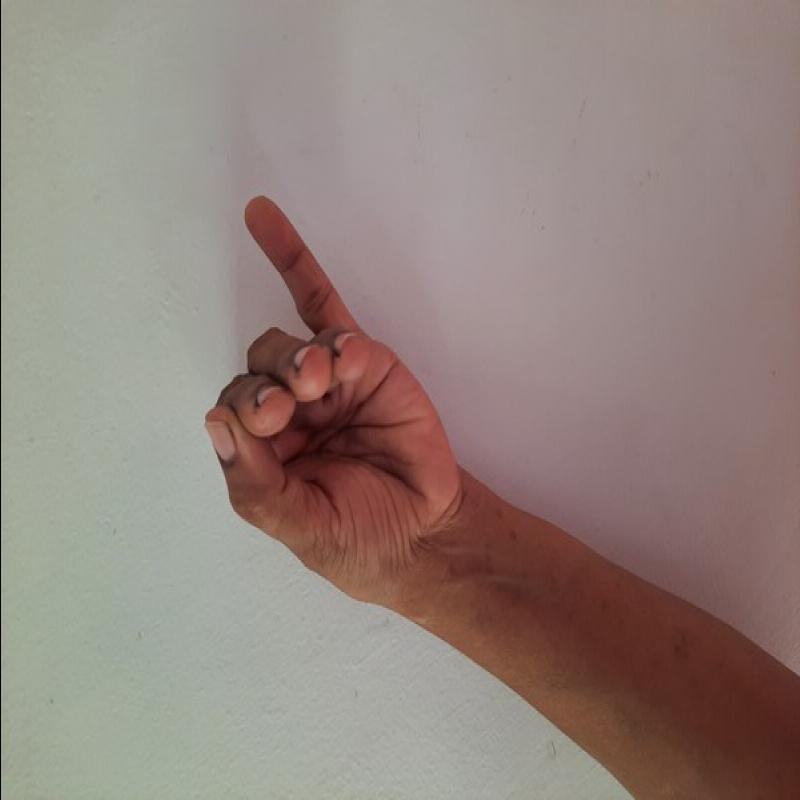Kartharee Mukham: (191, 180, 467, 606)
